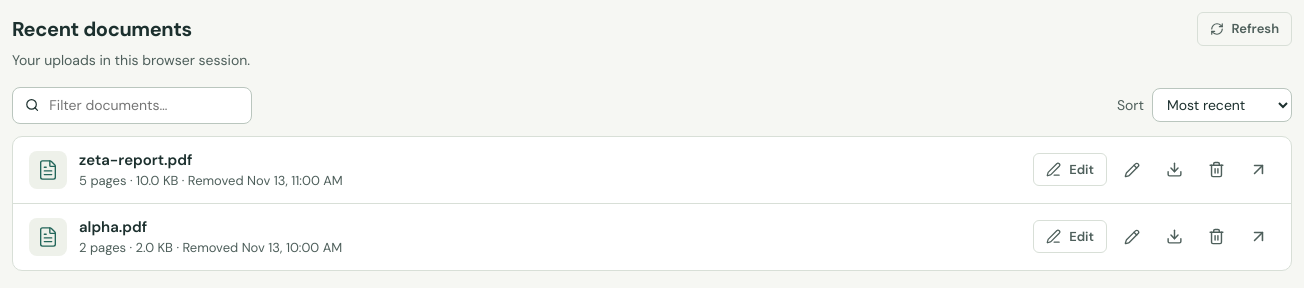
Test case: Docera Workspaces Integration › RecentDocuments filters, sorts, and renames documents
Later steps or results of the test are not shown.
Expected: the link "alpha.pdf" is shown, x1=79 y1=216 x2=147 y2=236
Expected: the link "zeta-report.pdf" is shown, x1=79 y1=150 x2=192 y2=170
In the search field named "filter recent documents": (143, 105) x1=47 y1=94 x2=239 y2=116, type "alpha"
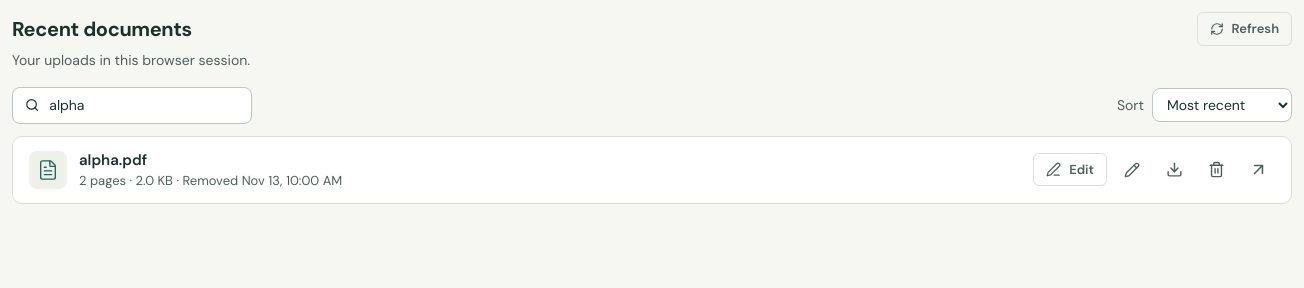
Expected: the link "alpha.pdf" is shown, x1=79 y1=150 x2=147 y2=170
Now the link "zeta-report.pdf" is gone
